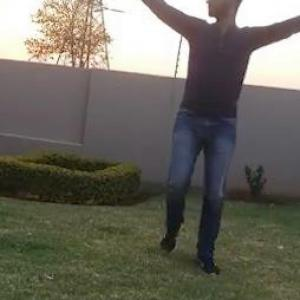takeoff: (120, 0, 299, 261)
